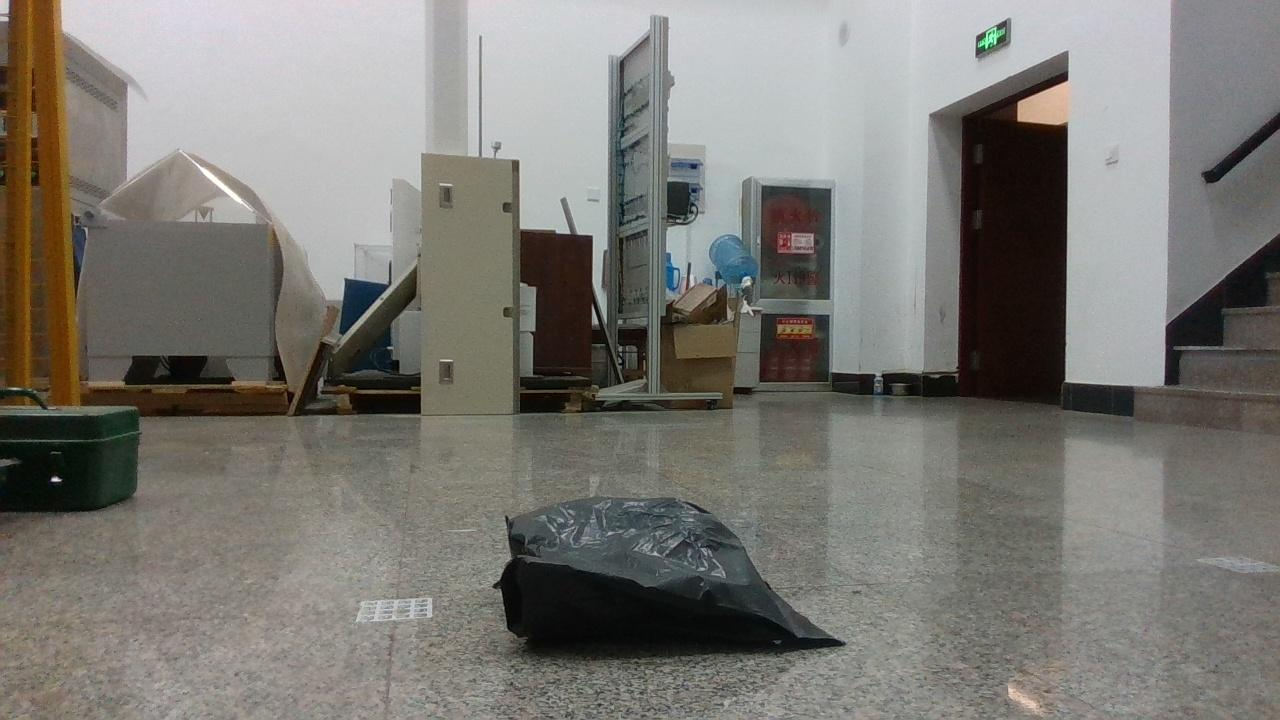package: (492, 498, 842, 646)
